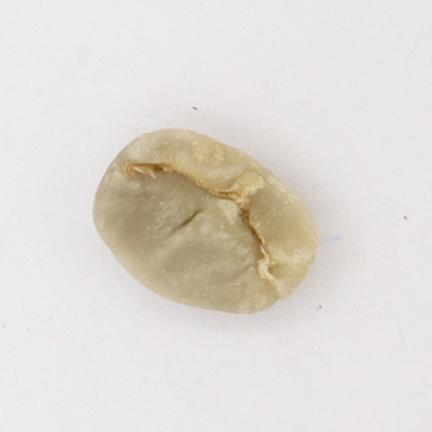immature: (94, 129, 316, 313)
